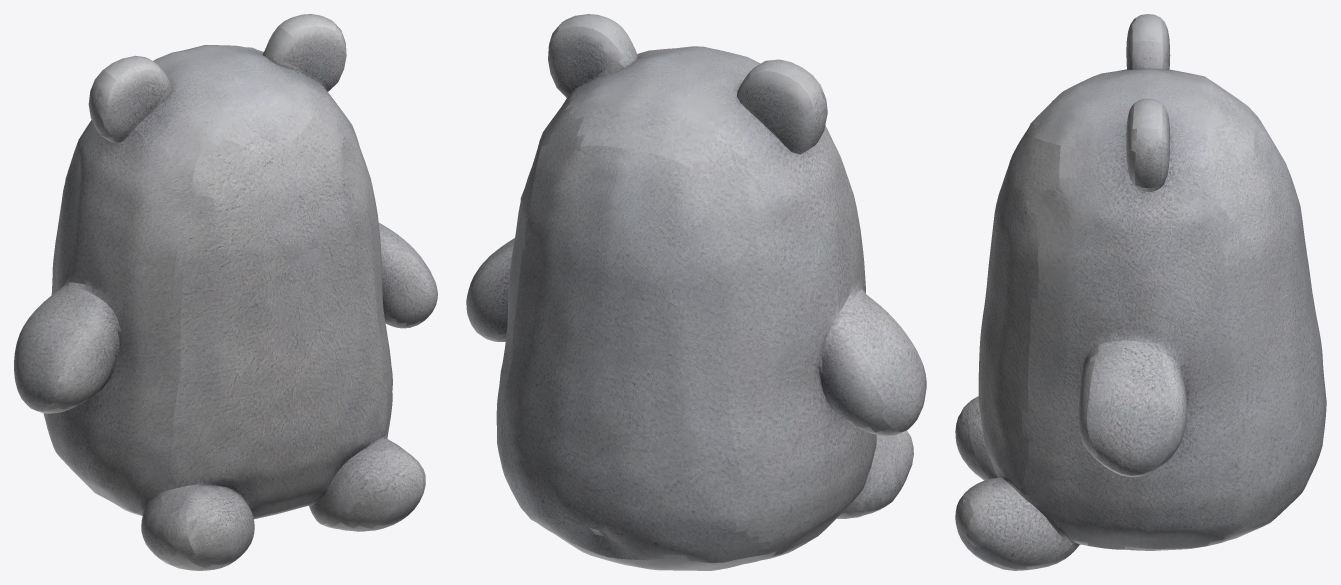
Rendered from plush.glb.
3 views of the same model, side by side, from view 1: azimuth 30°, elevation 25°; view 2: azimuth 150°, elevation 25°; view 3: azimuth 270°, elevation 25° (orthographic). The views are drawn at different scales.
Bounding box in the file's own units: 1.77 × 1.9 × 1.38.
Materials: 1 (1 with a texture image).
